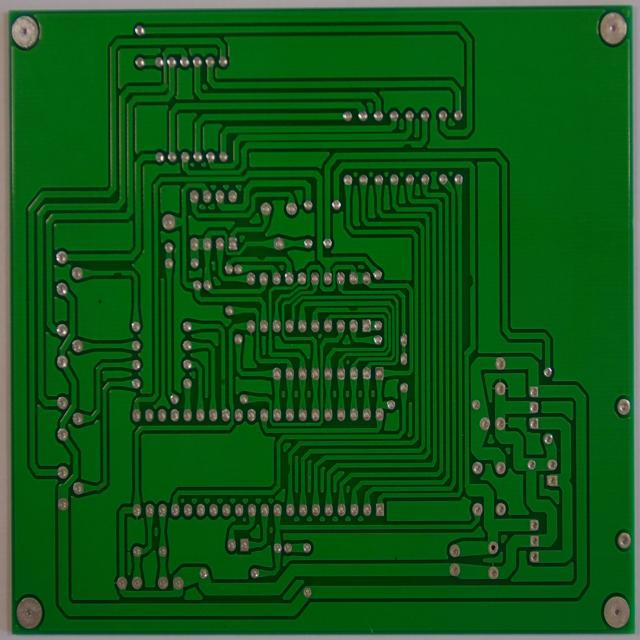mouse_bite: (465, 270, 475, 291), (109, 267, 124, 279), (344, 304, 360, 313), (400, 140, 413, 150), (284, 460, 292, 476), (254, 253, 268, 262)
